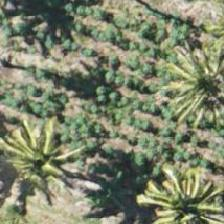coconut_tree: (0, 111, 86, 201), (152, 43, 223, 133), (132, 155, 222, 223)
